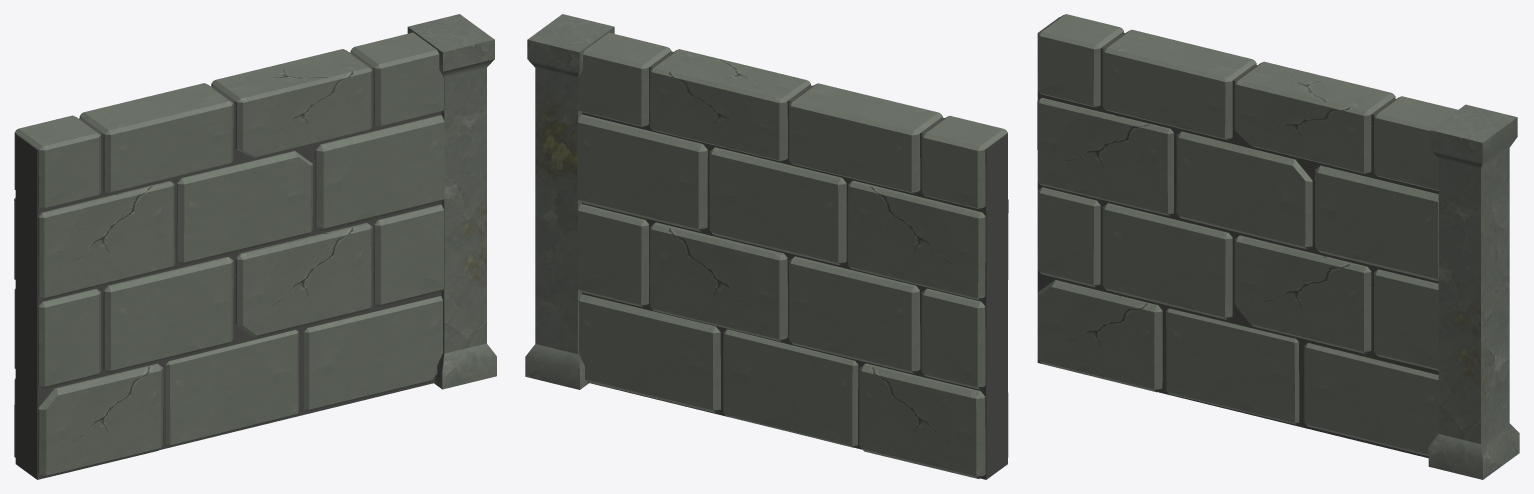
File: FIX_Wall001_R_Pillar.fbx
The picture shows the model from 3 angles, left to right: view 1: azimuth 30°, elevation 25°; view 2: azimuth 150°, elevation 25°; view 3: azimuth 330°, elevation 25°; orthographic projection.
Visible parts, largest first — view 1: polySurface14; view 2: polySurface14; view 3: polySurface14.
Boxes of the visible parts, <box> form: polySurface14: <box>14,14,496,479</box>; polySurface14: <box>525,14,1008,479</box>; polySurface14: <box>1037,14,1519,479</box>.
Size of the model in its own units: 18.17 by 12.91 by 2.55.
Materials: 8 (7 with a texture image).
